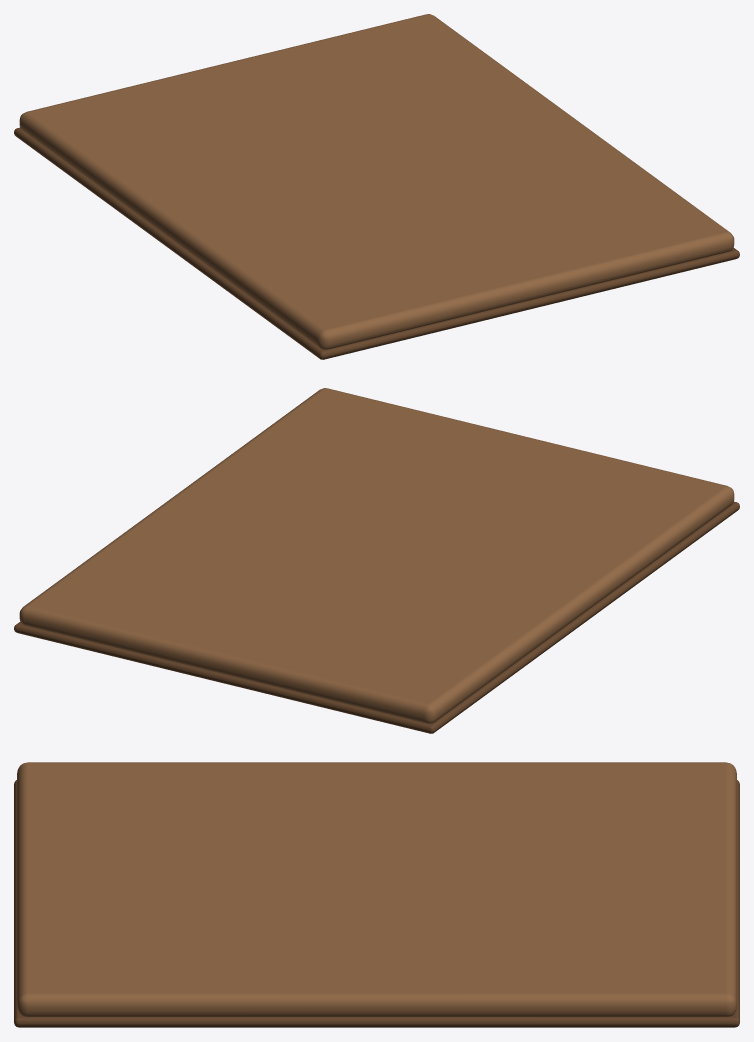
File: frame.glb
3 renders of one model, top to bottom at view 1: azimuth 30°, elevation 25°; view 2: azimuth 150°, elevation 25°; view 3: azimuth 270°, elevation 25°, orthographic. The views are drawn at different scales.
Parts seen in each view (by area): view 1: Cube; view 2: Cube; view 3: Cube.
Part boxes in pixels (bbox=[...]): Cube: bbox=[14, 14, 739, 359]; Cube: bbox=[14, 388, 739, 733]; Cube: bbox=[14, 762, 739, 1027].
Size of the model in its own units: 7.4 by 0.43 by 9.4.
